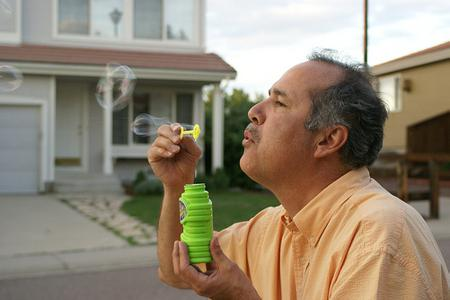person: (145, 53, 449, 300)
